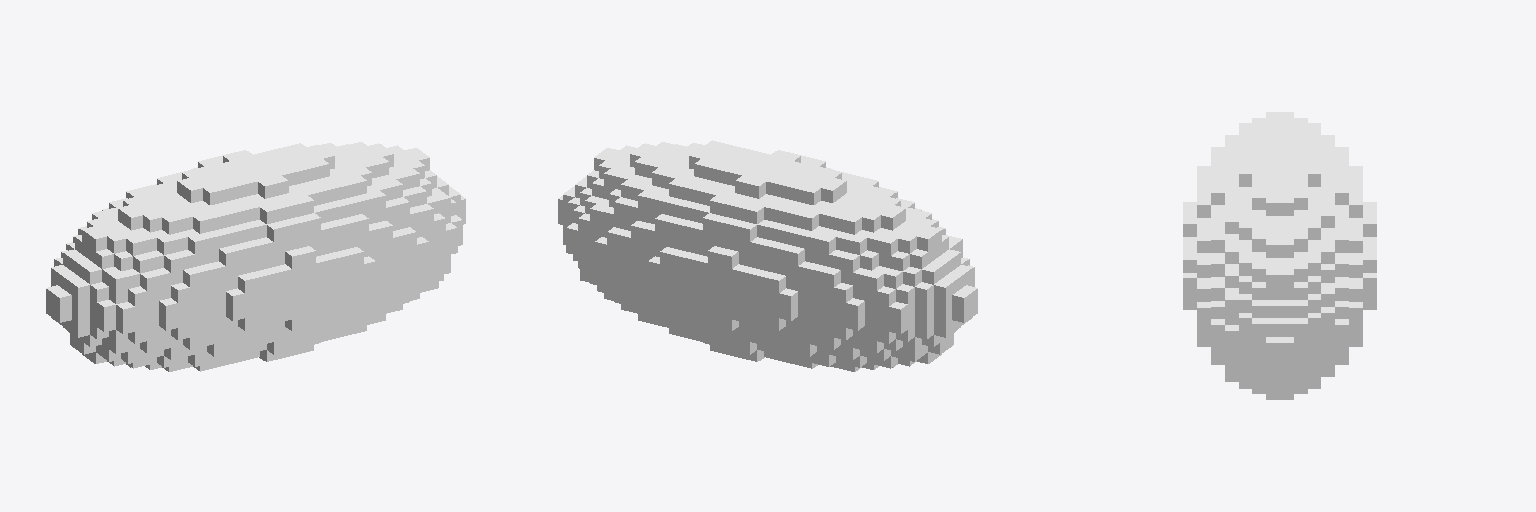
File: PowerUpMissiles.obj
3 views of the same model, side by side, from view 1: azimuth 30°, elevation 25°; view 2: azimuth 150°, elevation 25°; view 3: azimuth 270°, elevation 25° (orthographic).
Visible parts, largest first — view 1: object 1; view 2: object 1; view 3: object 1.
Boxes of the visible parts, x1,y1,x2,y2 form: object 1: [46, 142, 465, 371]; object 1: [558, 140, 977, 371]; object 1: [1183, 112, 1376, 399].
Size of the model in its own units: 3.4 by 1.4 by 1.4.